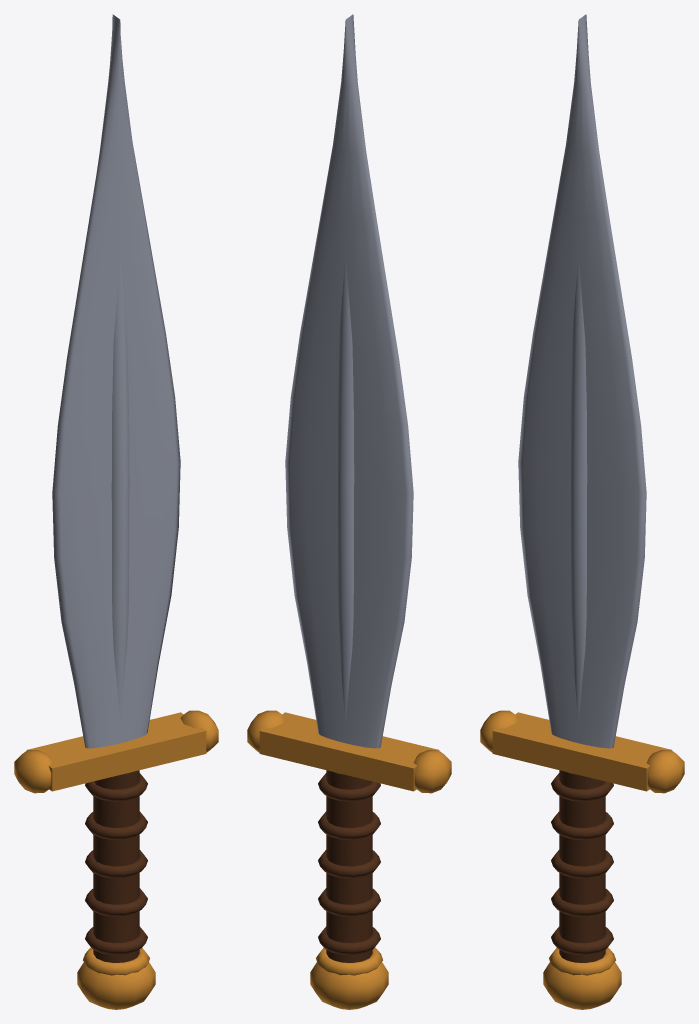
The model's file is personaje_espartano_espada_xifos.fbx.
3 views of the same model, side by side, from view 1: azimuth 30°, elevation 25°; view 2: azimuth 150°, elevation 25°; view 3: azimuth 330°, elevation 25° (orthographic).
Parts seen in each view (by area): view 1: Xiphos_Blade, Xiphos_Guard, Xiphos_Grip; view 2: Xiphos_Blade, Xiphos_Guard, Xiphos_Grip; view 3: Xiphos_Blade, Xiphos_Guard, Xiphos_Grip.
Boxes of the visible parts, box(x1,y1,x2,y2) form: Xiphos_Blade: box(52, 14, 180, 748); Xiphos_Guard: box(14, 710, 218, 1009); Xiphos_Grip: box(85, 770, 147, 962); Xiphos_Blade: box(285, 14, 413, 748); Xiphos_Guard: box(247, 710, 451, 1009); Xiphos_Grip: box(318, 770, 380, 962); Xiphos_Blade: box(518, 14, 646, 748); Xiphos_Guard: box(480, 710, 684, 1009); Xiphos_Grip: box(551, 770, 613, 962).
Bounding box in the file's own units: 10.7 × 51.5 × 3.7.
